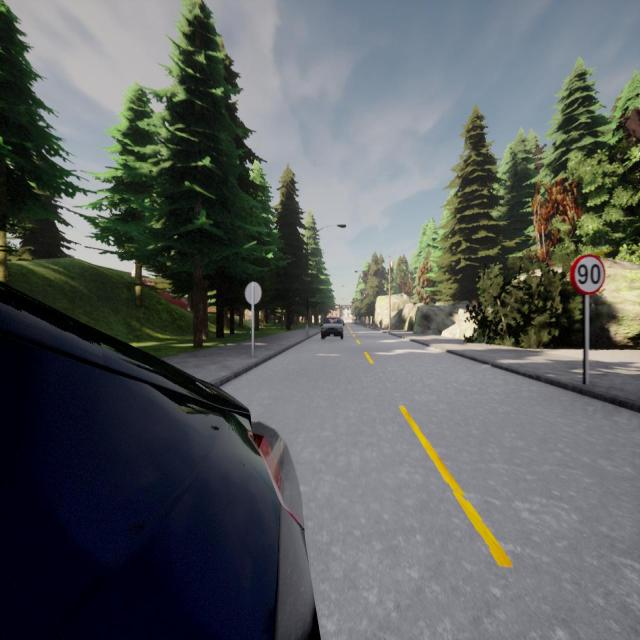Traffic_Signs: (570, 254, 605, 295), (245, 282, 262, 304)
Vehicle: (0, 285, 318, 639), (321, 317, 344, 340)
